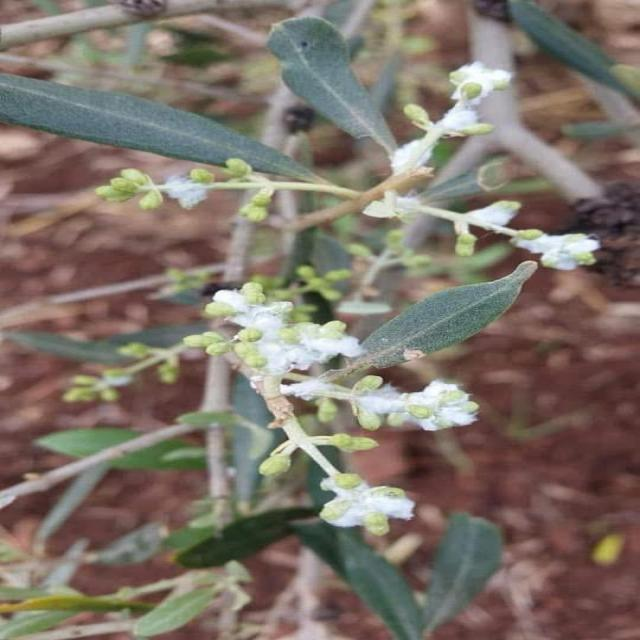Psyllid: (374, 193, 598, 270), (261, 438, 416, 538), (205, 281, 358, 382), (389, 62, 511, 176), (333, 376, 478, 426), (138, 168, 216, 210)
